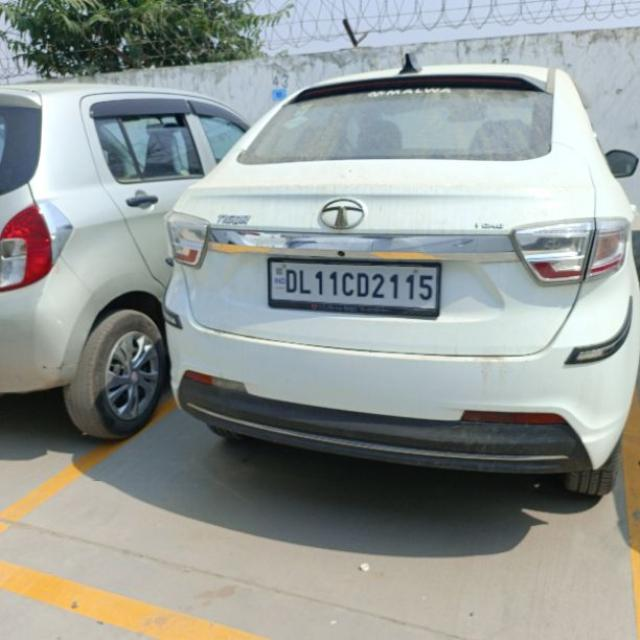license_plate: (266, 256, 441, 317)
